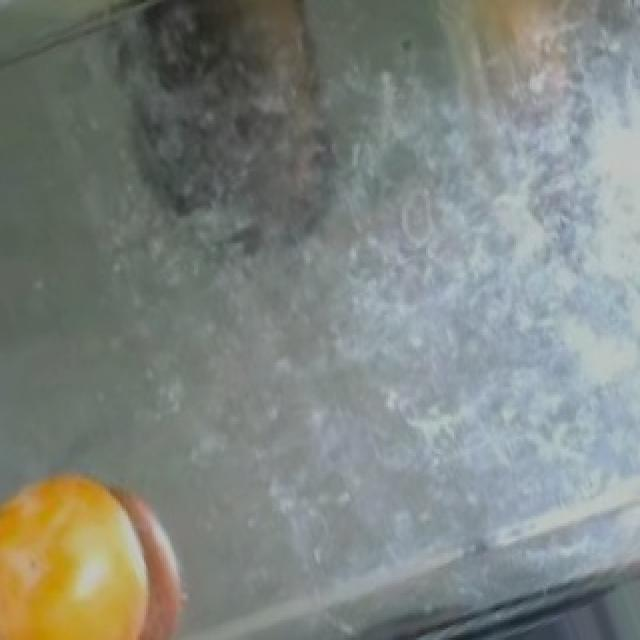Fruit: (2, 452, 168, 638)
